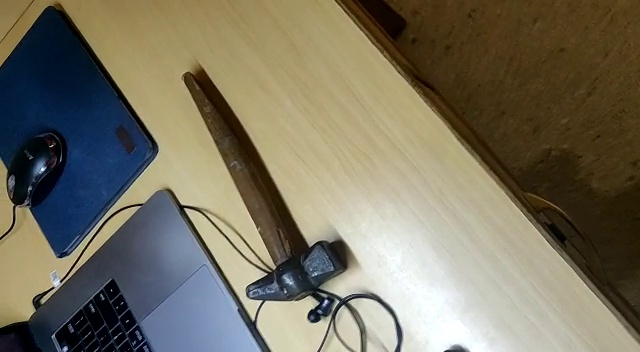hammer: (179, 70, 346, 302)
